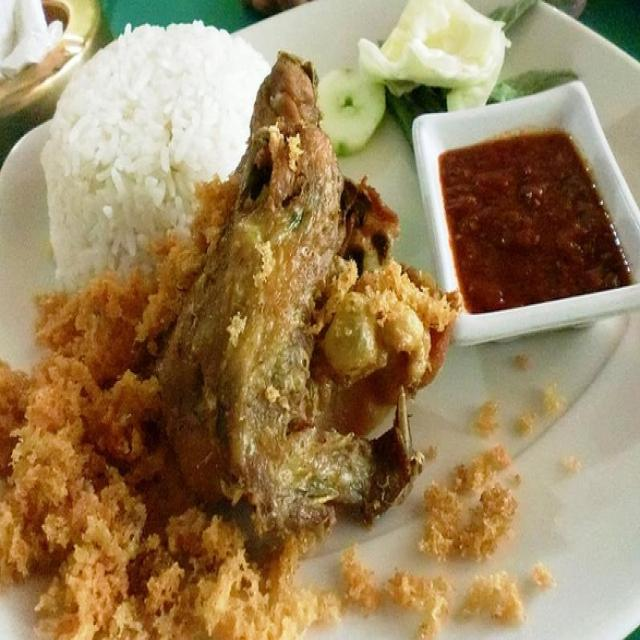鸡肉料理 含炸鸡: (18, 29, 576, 602)
